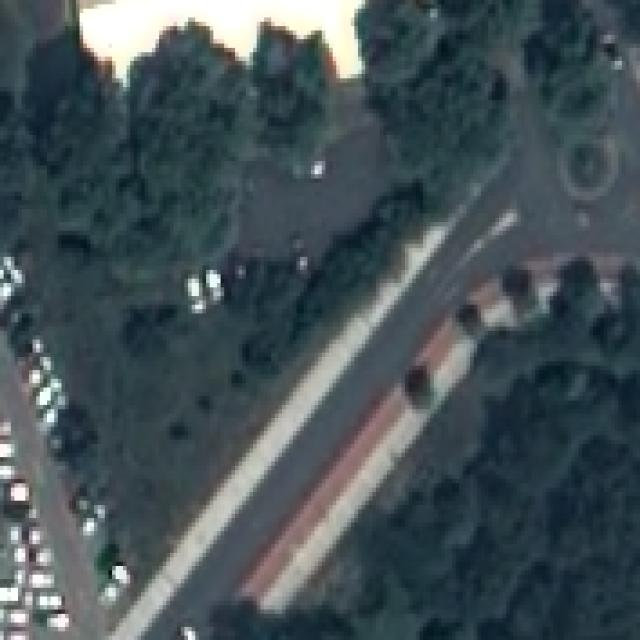trees: (212, 287, 640, 640), (359, 1, 536, 208), (131, 23, 258, 264), (26, 31, 128, 243), (297, 188, 431, 347), (529, 1, 619, 129), (1, 91, 34, 256), (624, 1, 640, 38)
